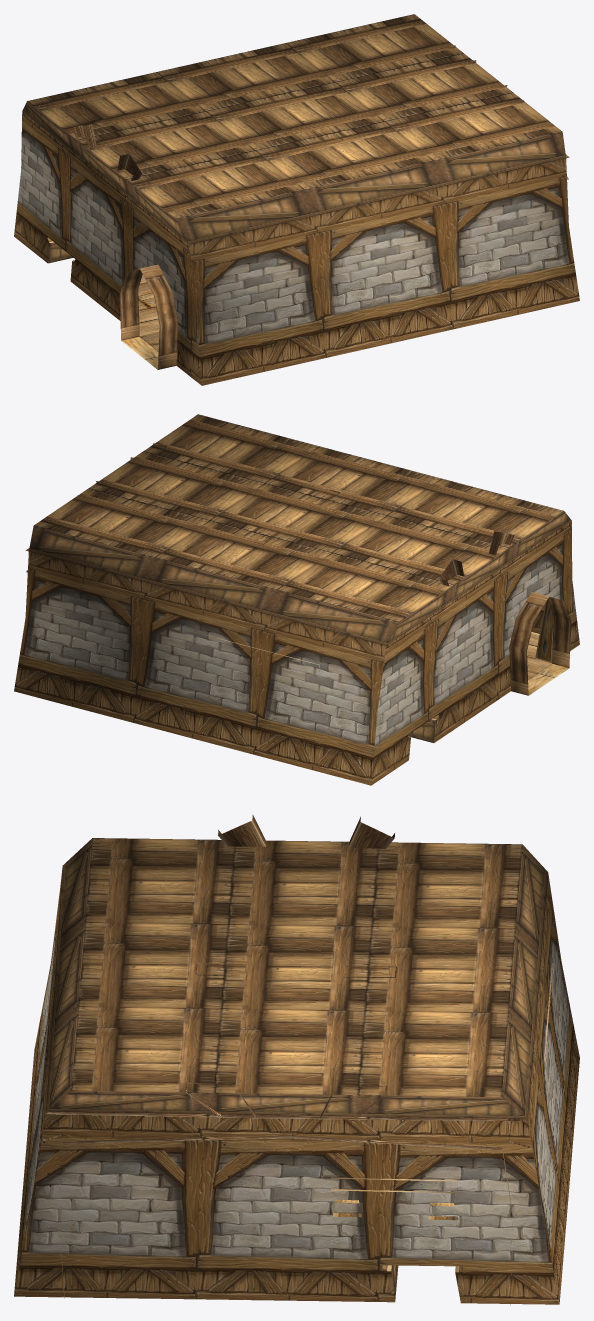
The model's file is stormwind_078.fbx.
3 views of the same model, one above another, from view 1: azimuth 30°, elevation 25°; view 2: azimuth 150°, elevation 25°; view 3: azimuth 270°, elevation 25° (orthographic). The views are drawn at different scales.
Visible parts, largest first — view 1: stormwind_078_87, stormwind_078_55, stormwind_078_56, stormwind_078_49, stormwind_078_53, stormwind_078_51; view 2: stormwind_078_87, stormwind_078_55, stormwind_078_56, stormwind_078_49, stormwind_078_53, stormwind_078_51; view 3: stormwind_078_55, stormwind_078_87, stormwind_078_56, stormwind_078_53, stormwind_078_54.
Part boxes in pixels (x1,y1,x2,y2): stormwind_078_87: [14, 112, 579, 385]; stormwind_078_55: [27, 14, 562, 218]; stormwind_078_56: [22, 101, 565, 263]; stormwind_078_49: [119, 264, 178, 369]; stormwind_078_53: [31, 45, 569, 369]; stormwind_078_51: [138, 274, 159, 350]; stormwind_078_87: [14, 521, 579, 785]; stormwind_078_55: [34, 414, 563, 621]; stormwind_078_56: [29, 511, 571, 742]; stormwind_078_49: [509, 592, 571, 695]; stormwind_078_53: [25, 443, 568, 701]; stormwind_078_51: [527, 632, 551, 679]; stormwind_078_55: [71, 838, 522, 1096]; stormwind_078_87: [14, 868, 579, 1304]; stormwind_078_56: [46, 838, 547, 1301]; stormwind_078_53: [38, 814, 557, 1305]; stormwind_078_54: [331, 963, 556, 1272].
Size of the model in its own units: 17.35 by 7.09 by 15.51.
